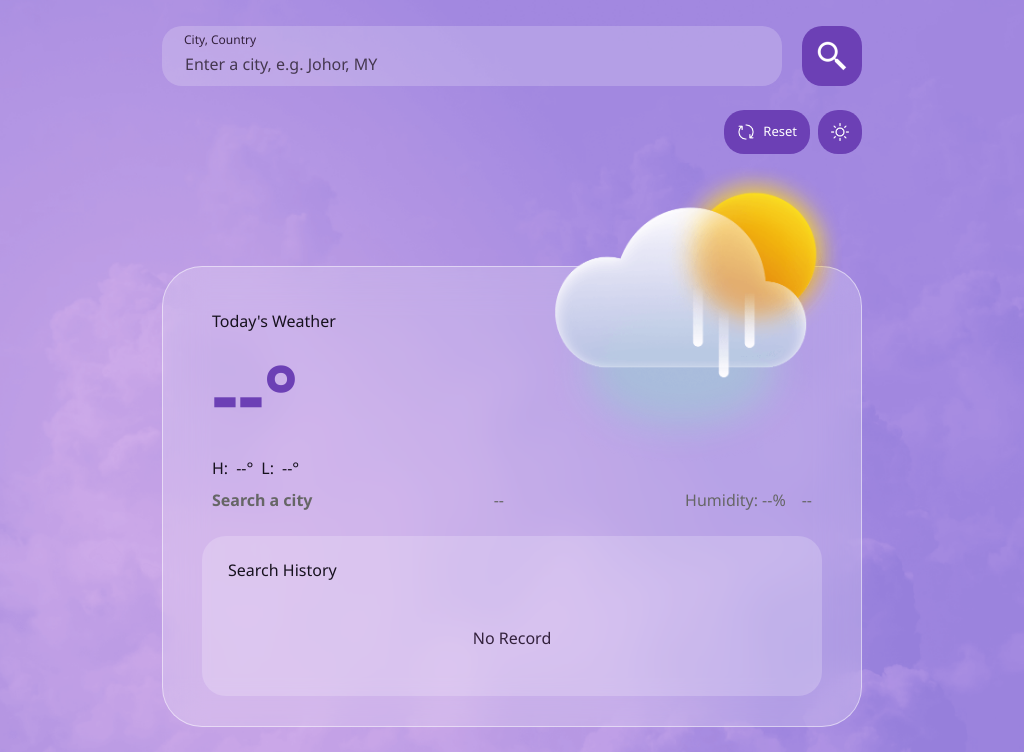
Test: weather search UI › invalidates candidates on input edit without fetching
In the field: (472, 56) [162,26,782,86], type "City"
Then press Enter
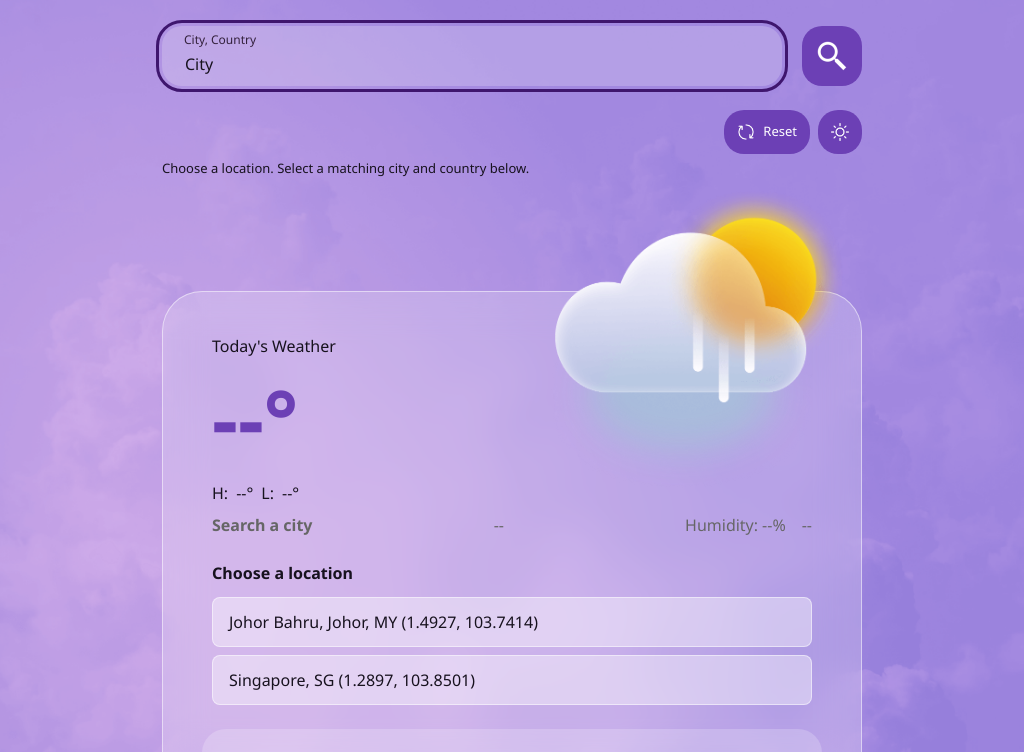
Check: the heading "Choose a location" is shown, box [212,562,353,584]
In the field: (472, 56) [162,26,782,86], type " new"
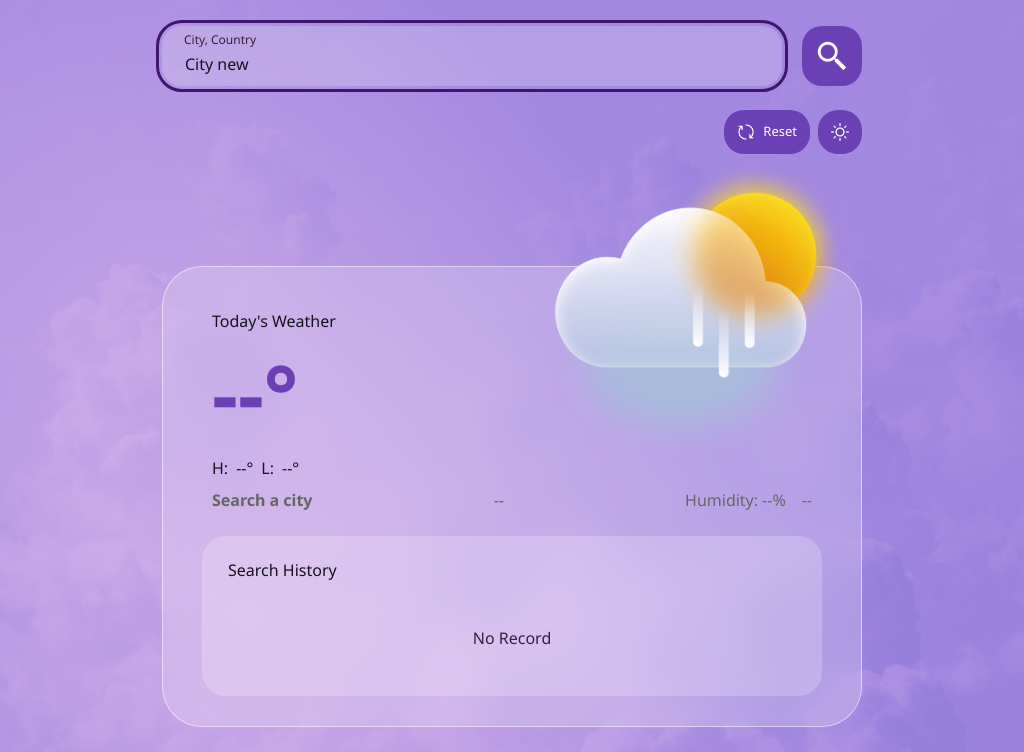
Check: the message "Choose a location" is gone
